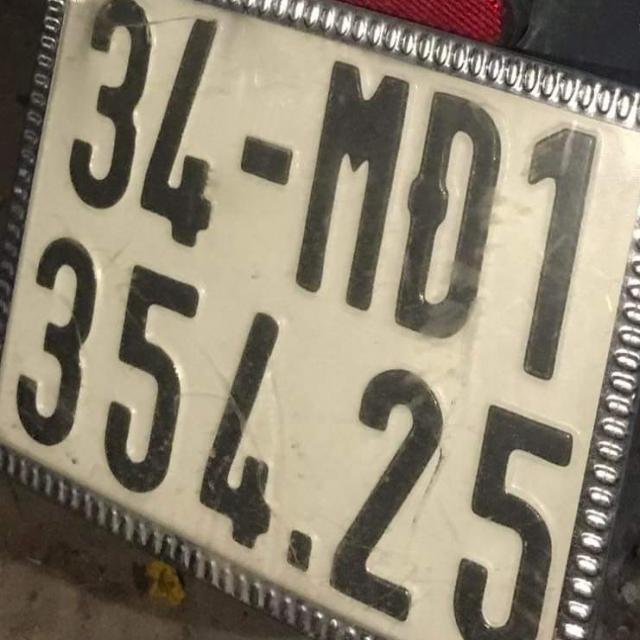1: (512, 113, 602, 392)
2: (321, 356, 446, 629)
3: (58, 0, 154, 216), (8, 235, 100, 448)
4: (192, 294, 286, 554), (140, 12, 227, 252)
5: (451, 393, 572, 634), (99, 256, 196, 499)
D: (392, 83, 512, 338)
M: (296, 45, 410, 313)
